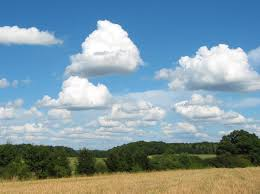Cumulus: (157, 37, 260, 93), (65, 16, 143, 77), (44, 74, 112, 111), (2, 20, 60, 52)
Stratus: (4, 101, 238, 138)
